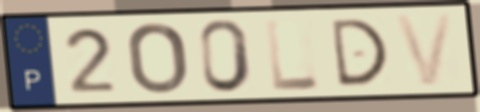0: (196, 17, 254, 95)
2: (62, 26, 119, 96)
D: (327, 16, 392, 90)
L: (263, 16, 323, 94)
O: (125, 20, 191, 97)
V: (392, 11, 458, 89)
